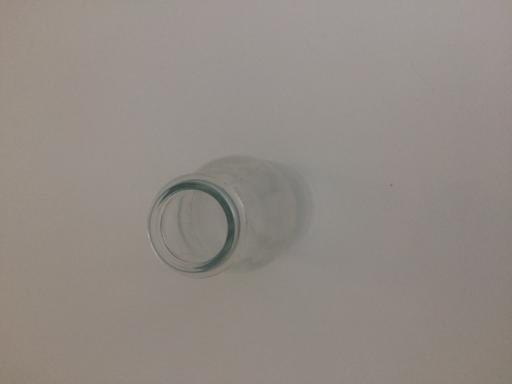botolkaca: (147, 157, 312, 279)
